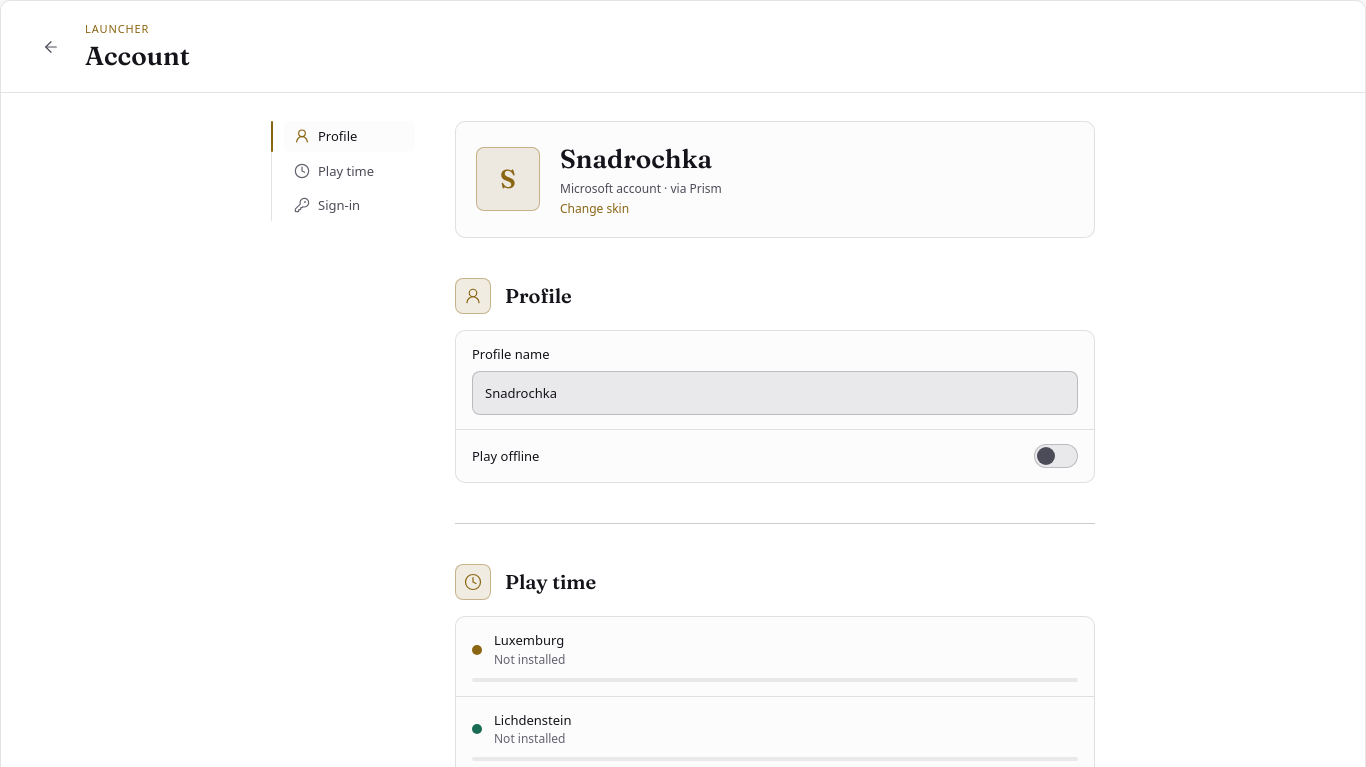
Test case: AccountPanel › turns offline on with the profile name, and shows the name field only then
Check: the field labelled "Offline name" is not shown
Check: the text "Online servers refuse an offline player." is not shown
Click the switch named "Play offline". click: x=1056, y=456
box: [1034,444,1078,468]
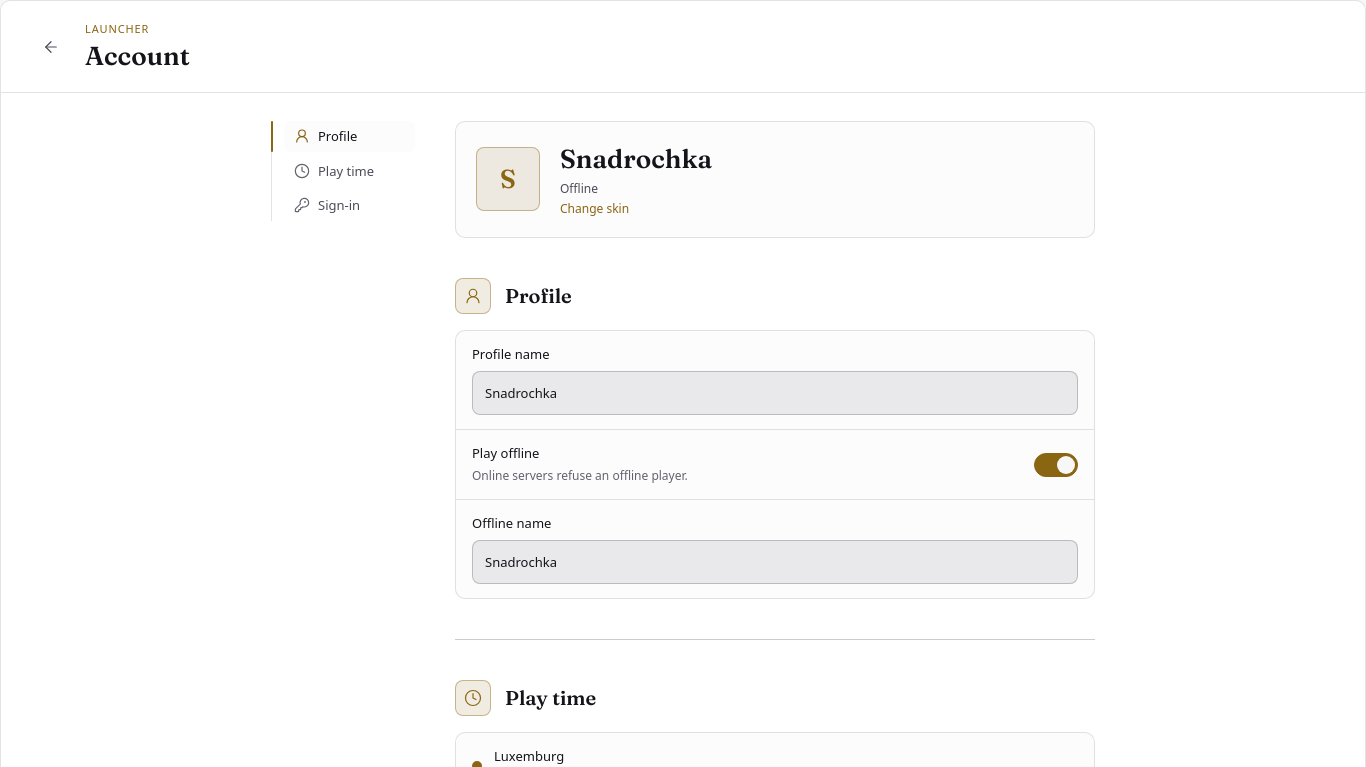
Check: the field labelled "Offline name" holds "Snadrochka", box [472,540,1078,584]
Check: the text "Online servers refuse an offline player." is shown, box [472,467,688,485]
Check: the text "Offline" is shown, box [560,180,598,197]
